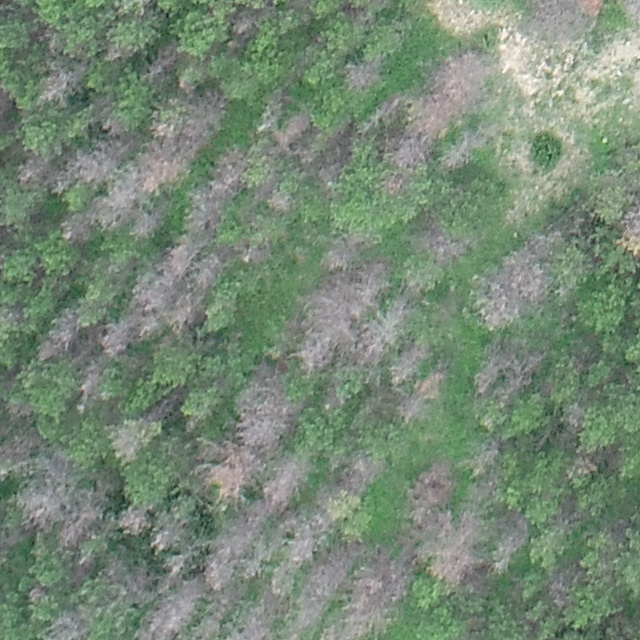unhealthy: (294, 264, 384, 360), (128, 241, 204, 334), (140, 93, 220, 171), (415, 49, 491, 129), (237, 371, 299, 449), (348, 549, 407, 629), (207, 511, 263, 587), (430, 515, 481, 590), (476, 342, 538, 400), (196, 442, 259, 498), (391, 368, 453, 424), (131, 582, 194, 637), (192, 168, 247, 230), (380, 306, 432, 368), (302, 545, 353, 606), (93, 165, 139, 231), (474, 267, 521, 329), (55, 131, 118, 175), (58, 491, 105, 549), (406, 456, 452, 515), (260, 455, 307, 512), (37, 308, 81, 363), (12, 485, 59, 531), (414, 225, 469, 262), (490, 513, 529, 565), (38, 62, 84, 105), (524, 0, 575, 38), (339, 454, 385, 493), (0, 433, 36, 479), (320, 233, 364, 270), (384, 134, 431, 168), (545, 561, 578, 607), (275, 111, 313, 149), (440, 135, 479, 171), (343, 58, 384, 92), (42, 611, 89, 640), (468, 437, 503, 475), (109, 422, 143, 461), (619, 196, 640, 259), (98, 319, 134, 355), (56, 210, 92, 246), (149, 516, 186, 551), (16, 153, 54, 187), (76, 361, 104, 406), (522, 258, 552, 299), (324, 614, 371, 640), (205, 251, 238, 288), (144, 390, 183, 421), (148, 42, 180, 79), (140, 171, 193, 193), (289, 527, 319, 565), (111, 504, 145, 536), (139, 209, 172, 240), (374, 91, 406, 121), (236, 612, 271, 639), (560, 400, 588, 431), (379, 171, 412, 196), (230, 12, 257, 37), (191, 616, 220, 639), (102, 43, 133, 63), (0, 83, 15, 121), (576, 0, 604, 17), (620, 0, 639, 24), (28, 584, 46, 604)
